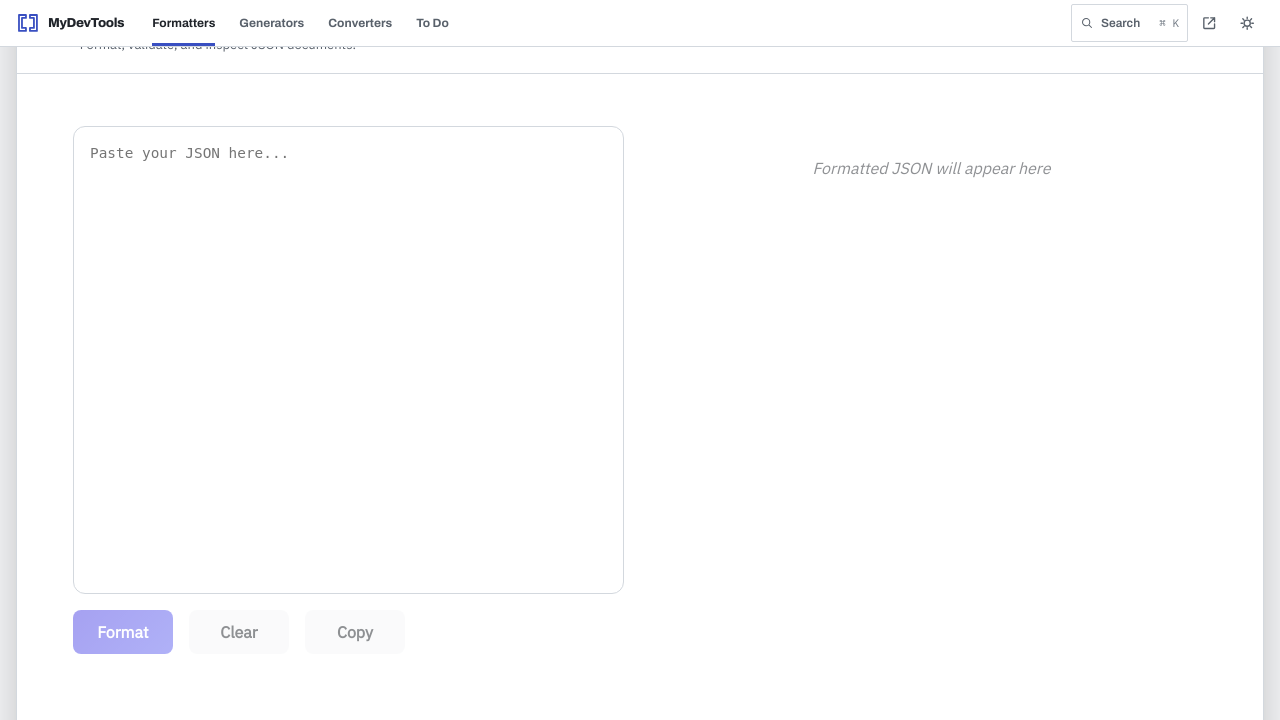
Test: JsonFormatter Component › clears input and output
(page scrolled)
Press {"foo": "bar", "num": 42, "bool": true} in the text box with test id "json-input", box 73,126 -> 624,594
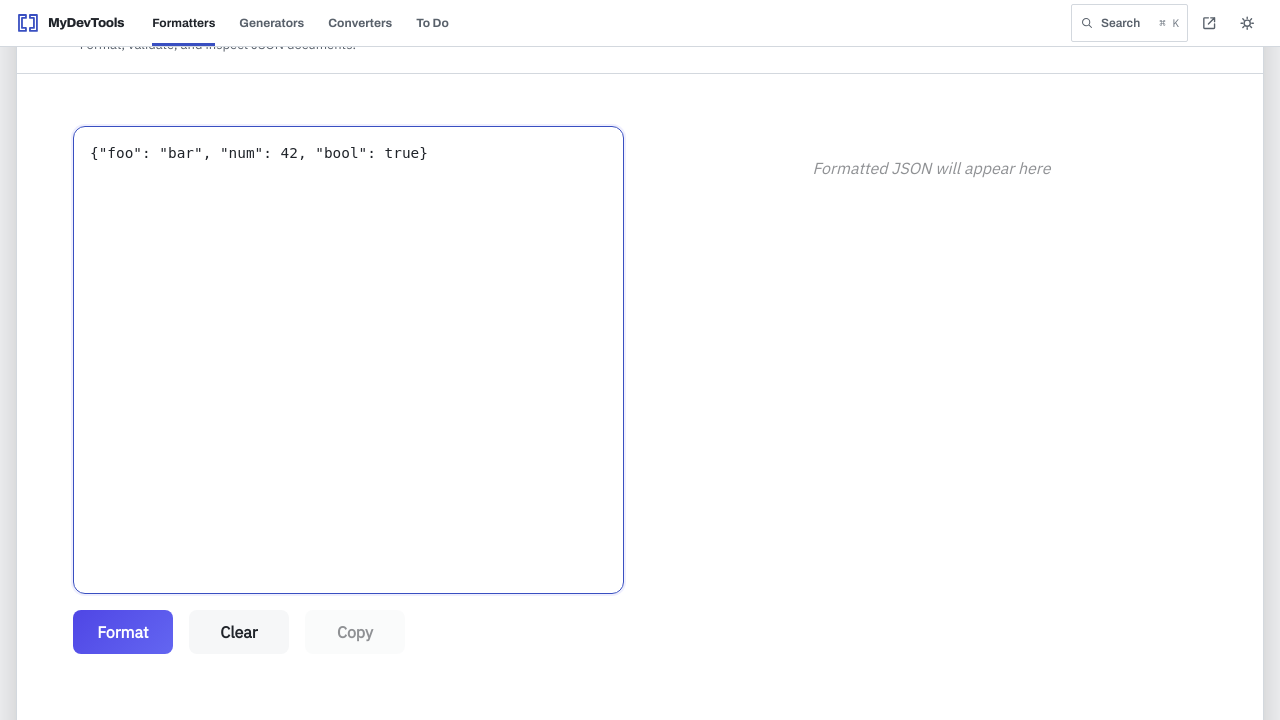
Click the button with test id "format-btn".
click(123, 632)  # box 73,610 -> 173,654
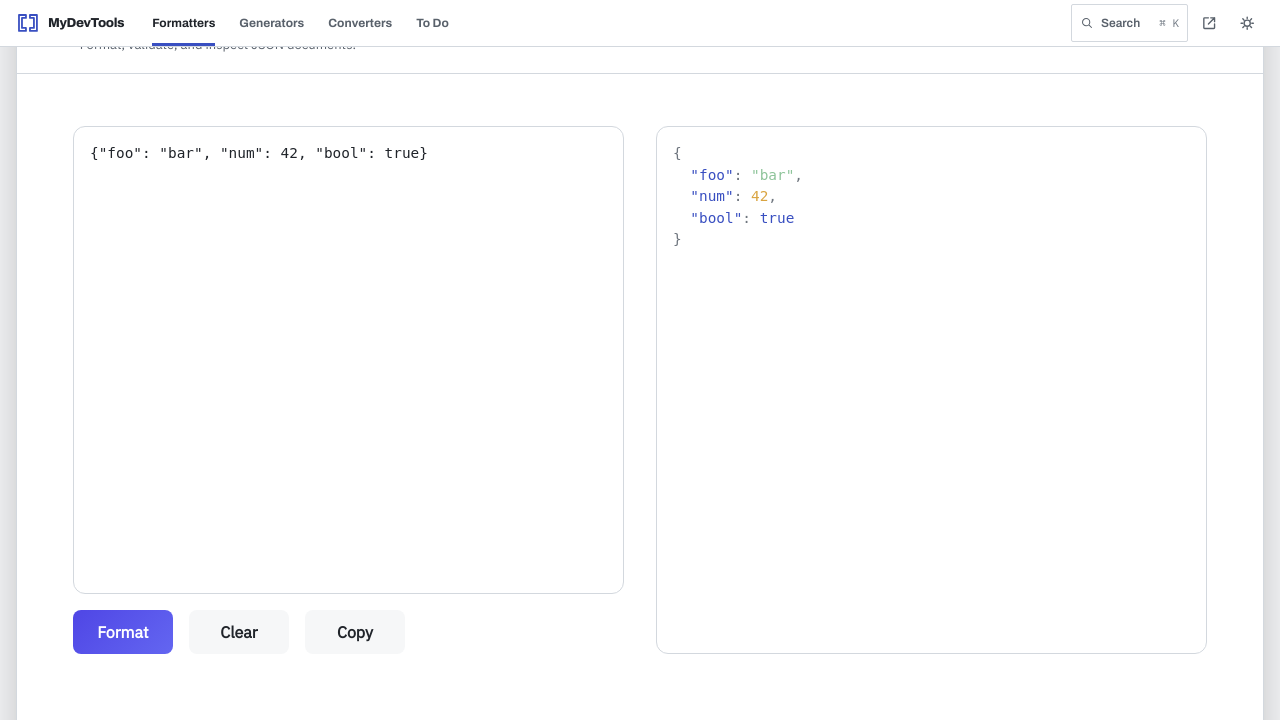
Click the button with test id "clear-btn".
click(239, 632)  # box 189,610 -> 289,654
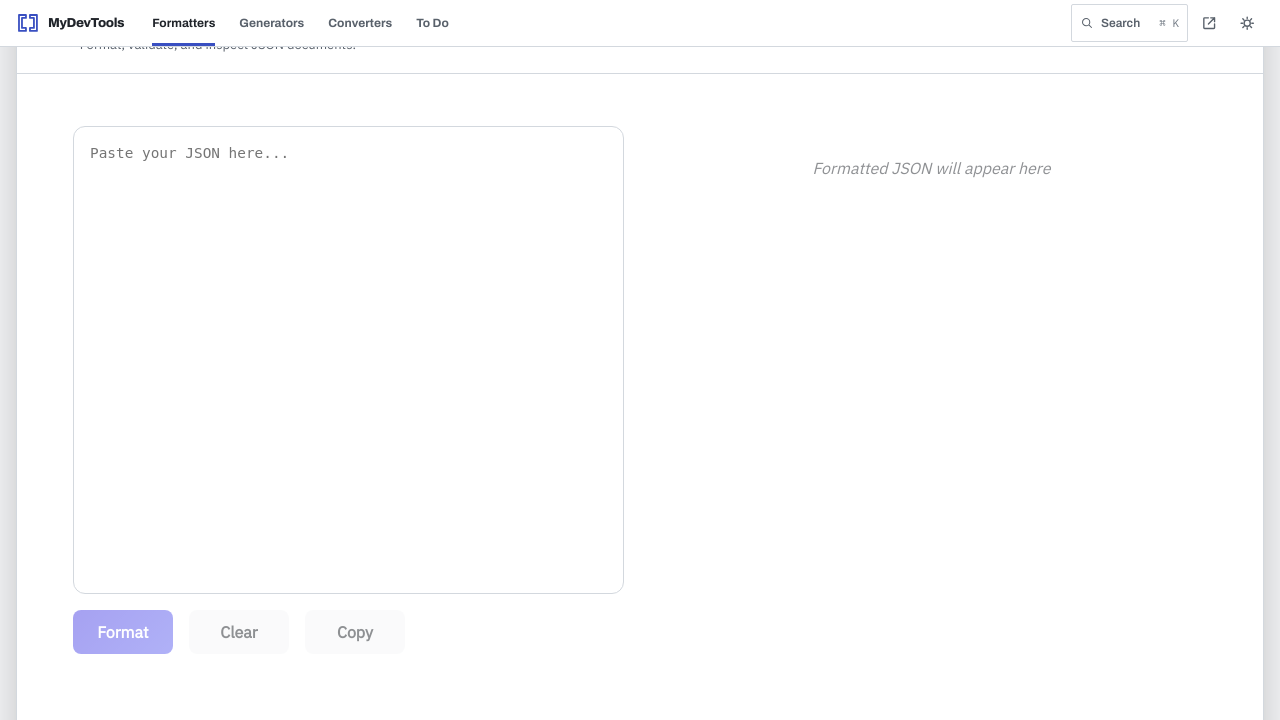
Result: the element with test id "json-output" is gone
Result: the text "Formatted JSON will appear here" is shown at 813,158 -> 1050,178
